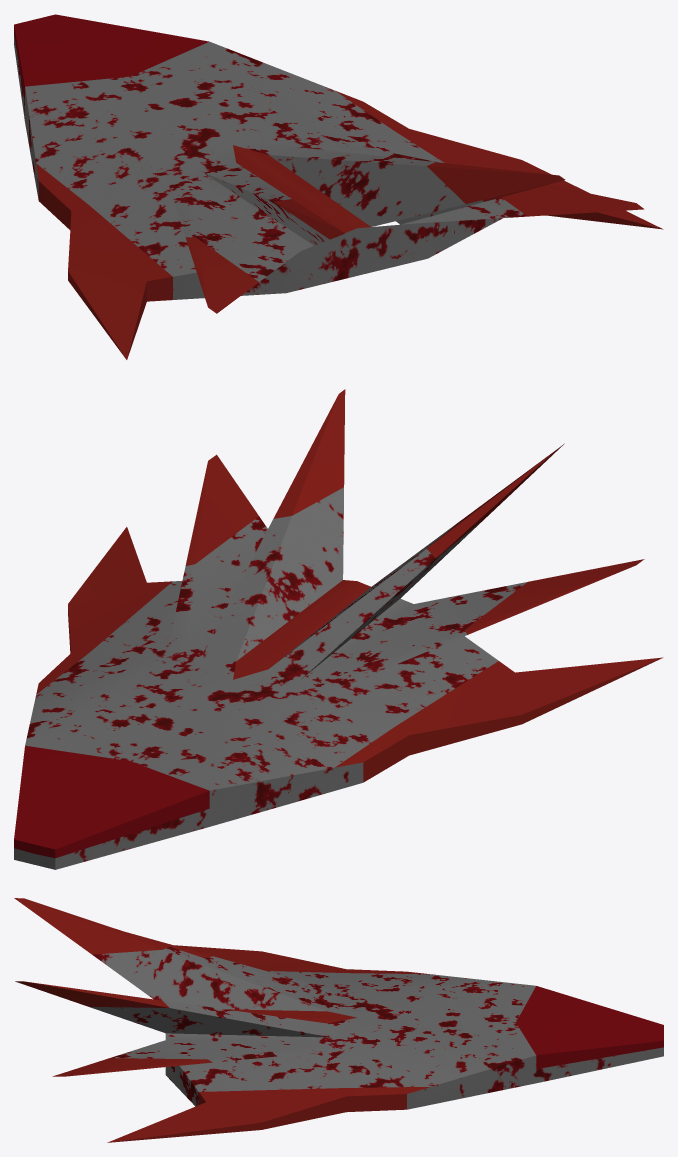
Rendered from MardarianThree.fbx.
The picture shows the model from 3 angles, top to bottom: view 1: azimuth 30°, elevation 25°; view 2: azimuth 150°, elevation 25°; view 3: azimuth 270°, elevation 25°; orthographic projection. The views are drawn at different scales.
Visible parts, largest first — view 1: mardarian_3; view 2: mardarian_3; view 3: mardarian_3.
Boxes of the visible parts, <box> form: mardarian_3: <box>14,14,663,359</box>; mardarian_3: <box>14,389,663,869</box>; mardarian_3: <box>14,898,663,1142</box>.
Bounding box in the file's own units: 22825 × 30974 × 5726.
